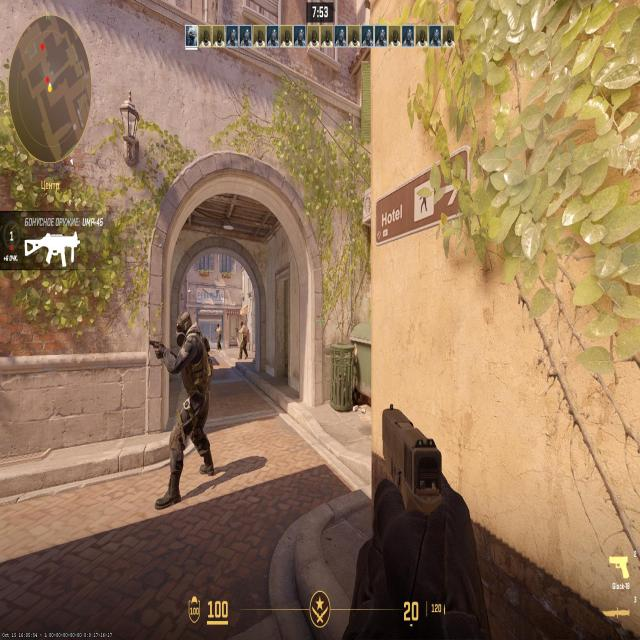CT: (180, 313, 204, 472)
CT_heat: (180, 323, 190, 341)
T: (240, 325, 248, 358), (216, 324, 222, 350)
T_heat: (242, 324, 246, 335), (216, 326, 221, 334)
